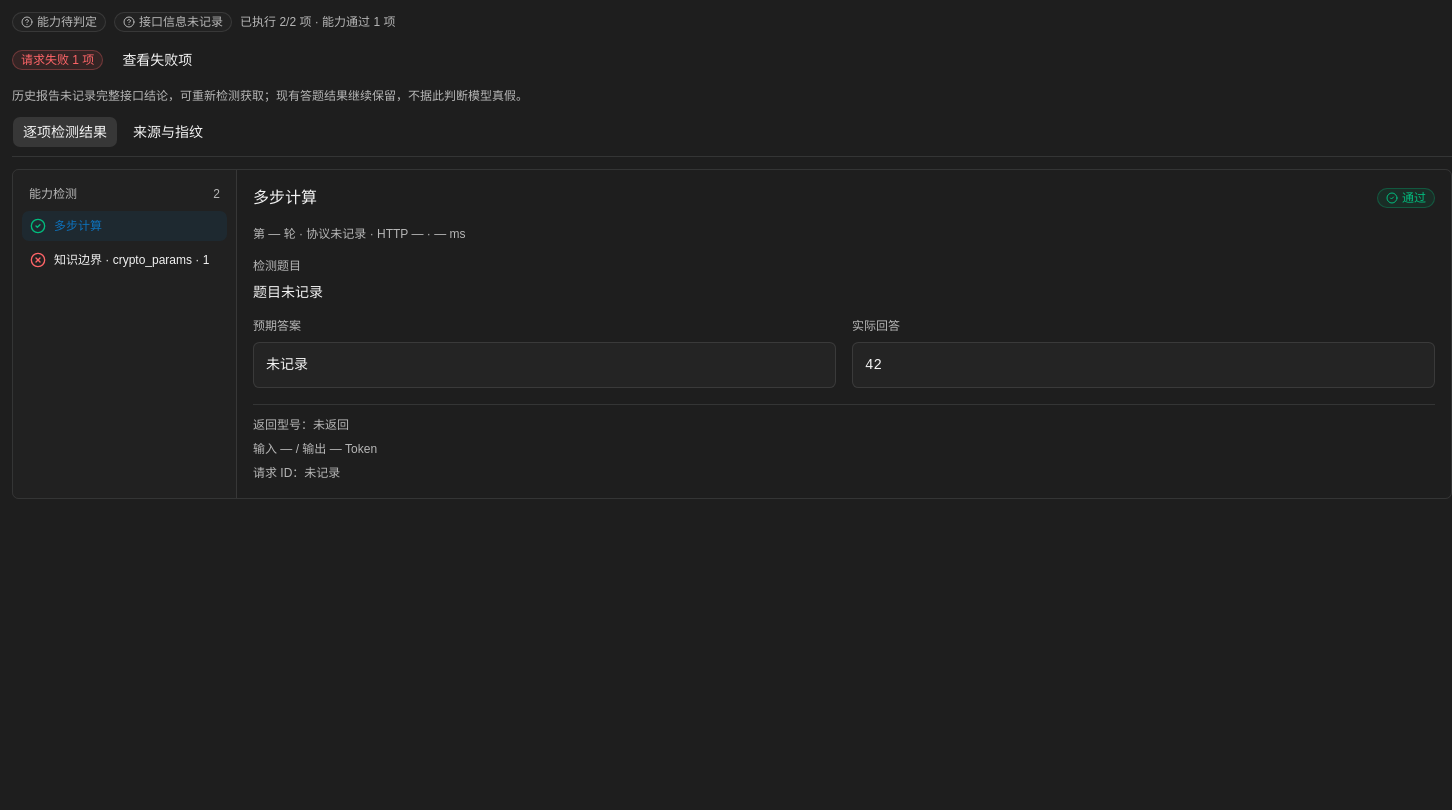
Test: 所有请求结束但有超时时显示失败数量并能直接定位失败项
Expected: the text "请求失败 1 项" is shown, [21,52,94,68]
Click the button "查看失败项". click: (157, 60)
box: [111,44,203,76]
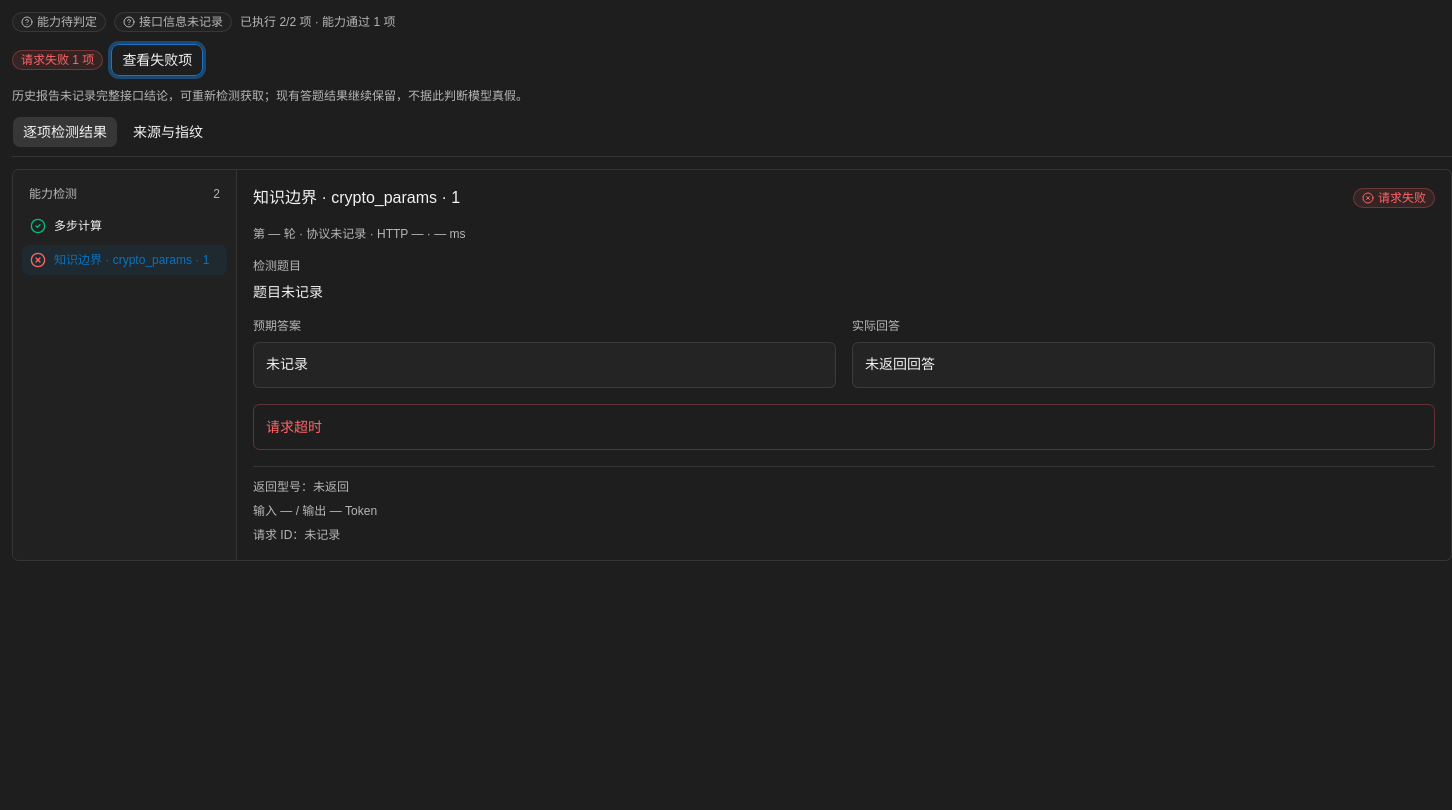
Expected: the text "请求超时" is shown, [253,404,1435,450]
